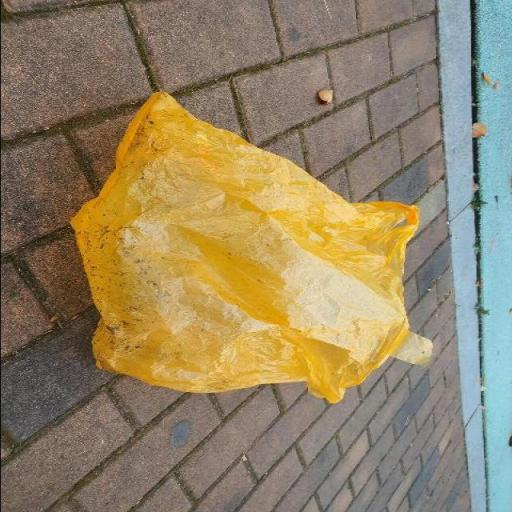plastic-bag: (64, 88, 435, 406)
